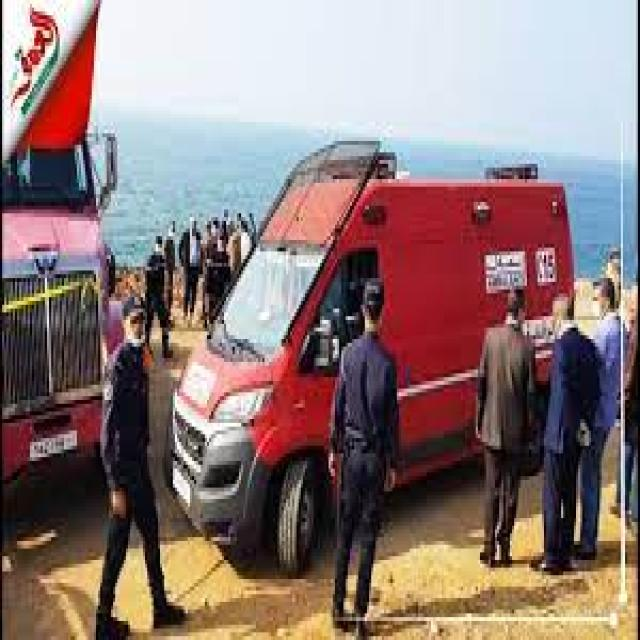ambulance: (171, 145, 569, 567)
